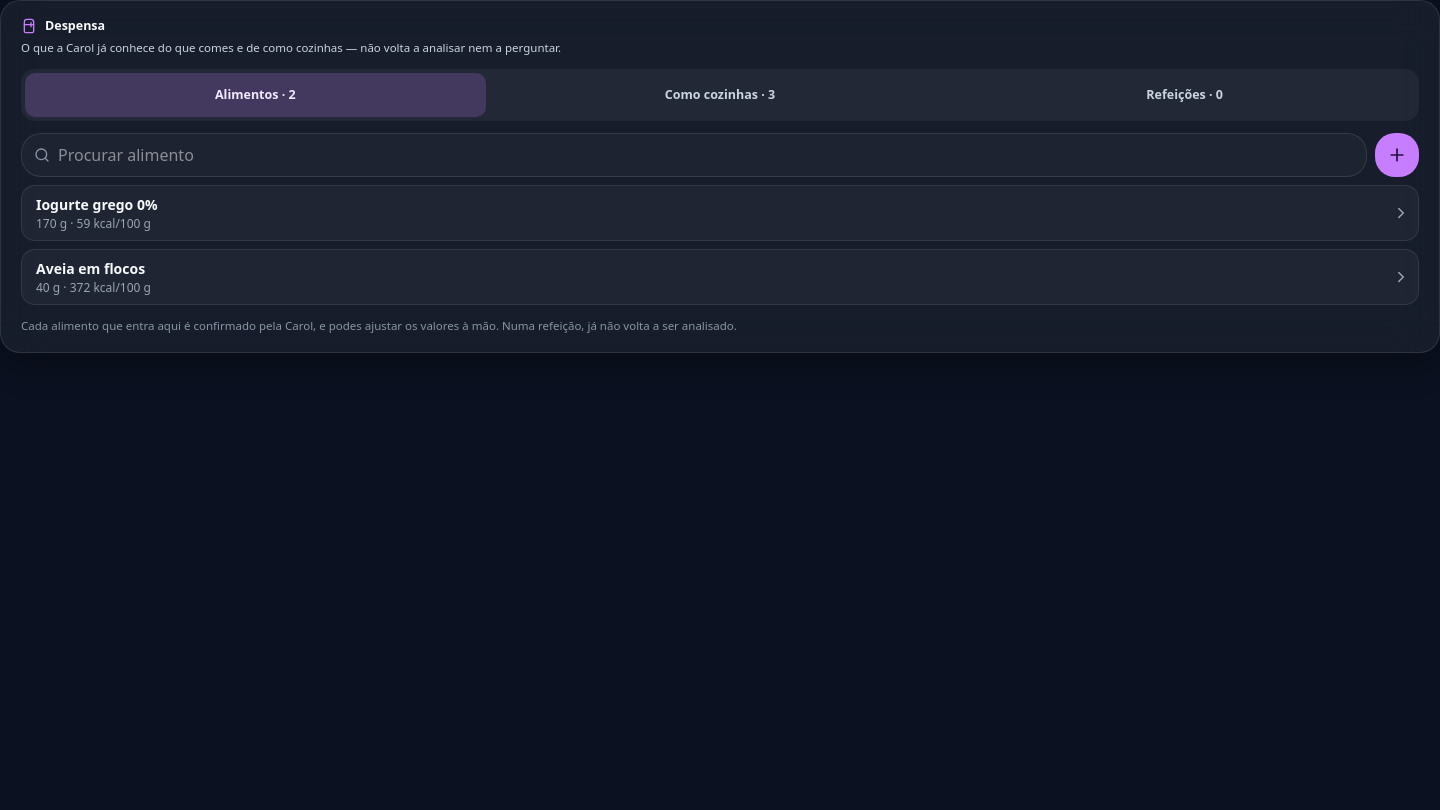
Test case: PantrySection › os hábitos de quantidade aparecem à parte, só com o nome do alimento (fase C dos #58/#66)
Click the tab "Como cozinhas · 3" at coordinates (720, 95), box 490,73 -> 950,117
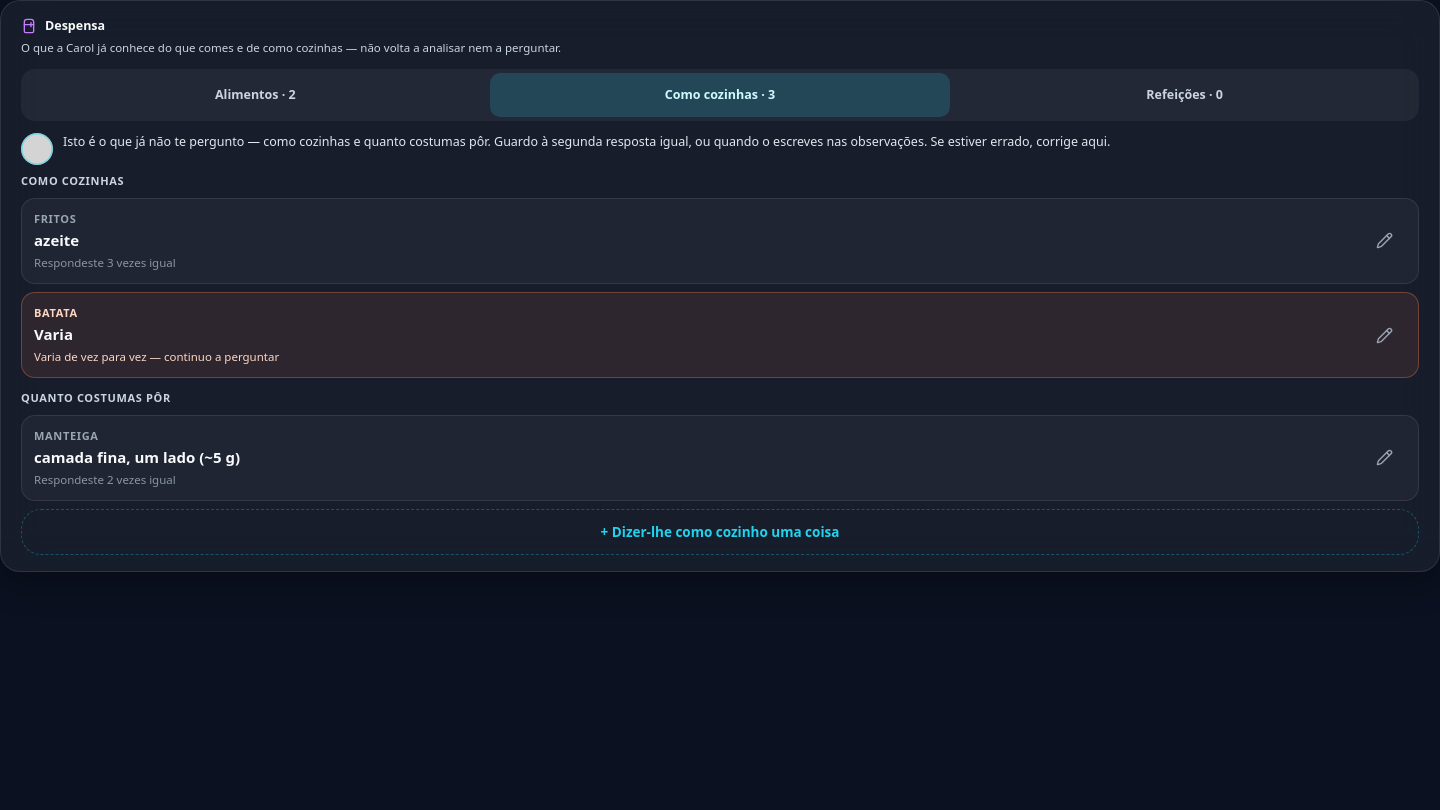
Now the list named "Quanto costumas pôr" shows "manteiga", box 34,428 -> 99,443
Now the list named "Quanto costumas pôr" shows "camada fina, um lado (~5 g)", box 34,447 -> 240,467
Now the button named "Corrigir manteiga (quantidade)" is shown, box 1362,436 -> 1406,480
